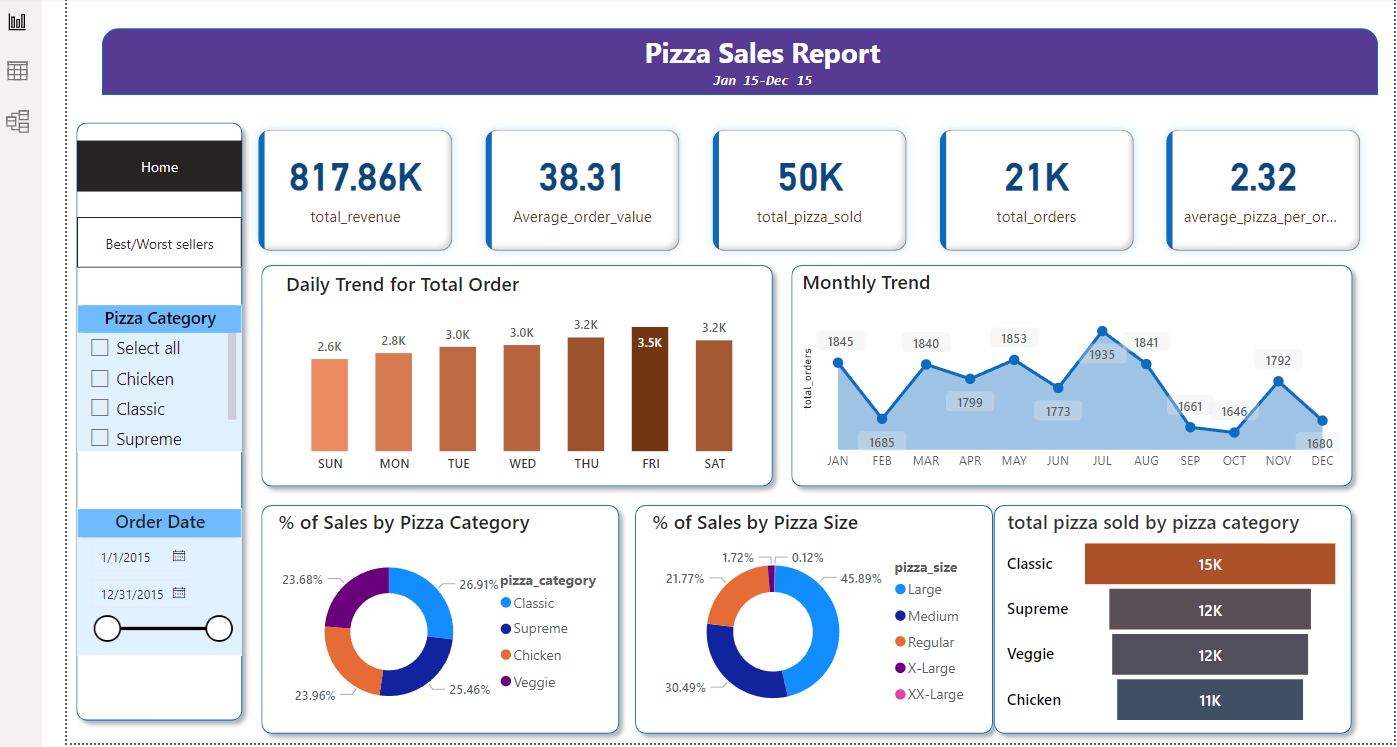

The page's visual inventory and layout, read from the dashboard file:
{"tool":"powerbi","page":{"name":"Home","canvas":[1280,720],"ordinal":0},"visuals":[{"type":"textbox","box":[401.7,671.8,157.7,48],"z":0},{"type":"cardVisual","fields":{"Data":["pizza_sales.total_revenue","pizza_sales.Average_order_value","pizza_sales.total_pizza_sold","pizza_sales.total_orders","pizza_sales.average_pizza_per_order"]},"box":[168.6,112.4,1096.8,149.4],"z":1000},{"type":"shape","box":[34.3,30.2,1231.2,64.4],"z":2000},{"type":"textbox","box":[477.1,30.2,386.6,64.4],"z":3000},{"type":"textbox","box":[49,381.5,1200,150],"z":4000},{"type":"shape","box":[178.2,249.5,511.4,231.7],"z":5000},{"type":"columnChart","title":"Daily Trend for Total Order","fields":{"Category":["pizza_sales.order_day"],"Y":["pizza_sales.total_orders"]},"box":[205.7,264.6,467.5,204.3],"z":6000},{"type":"shape","box":[689.6,249.5,559.4,231.7],"z":7000},{"type":"areaChart","title":"Monthly Trend","fields":{"Category":["pizza_sales.Order Month"],"Y":["pizza_sales.total_orders"]},"box":[704.7,261.9,529.2,204.3],"z":8000},{"type":"shape","box":[178.2,481.2,363.3,238.6],"z":9000},{"type":"shape","box":[538.8,481.2,363.3,238.6],"z":10000},{"type":"shape","box":[885.7,481.2,363.3,238.6],"z":11000},{"type":"donutChart","title":"% of Sales by Pizza Category","fields":{"Category":["pizza_sales.pizza_category"],"Y":["pizza_sales.total_revenue"]},"box":[198.8,493.6,323.6,213.9],"z":12000},{"type":"donutChart","title":"% of Sales by Pizza Size","fields":{"Y":["pizza_sales.total_revenue"],"Category":["pizza_sales.pizza_size"]},"box":[559.4,493.6,323.6,213.9],"z":13000},{"type":"funnel","title":"total pizza sold by pizza category","fields":{"Category":["pizza_sales.pizza_category"],"Y":["pizza_sales.total_pizza_sold"]},"box":[902.1,493.6,331.8,213.9],"z":14000},{"type":"shape","box":[0,112.4,178.2,595],"z":15000},{"type":"slicer","title":"Pizza Category","fields":{"Values":["pizza_sales.pizza_category"]},"box":[9.6,296.1,159,142.6],"z":16000},{"type":"slicer","title":"Order Date","fields":{"Values":["pizza_sales.order_date"]},"box":[9.6,493.6,159,142.6],"z":17000},{"type":"pageNavigator","box":[9.6,138.5,159,49.4],"z":18000},{"type":"pageNavigator","box":[9.6,212.5,159,49.4],"z":19000}]}

Visuals, with their boxes on the page's 1280x720 design canvas (x1, y1, x2, y2). These are canvas units, not pixel positions in the 1397x747 screenshot, which may show the page scaled, cropped or inside an application window:
textbox: 402,672,559,720
cardVisual - pizza_sales.total_revenue x pizza_sales.Average_order_value: 169,112,1265,262
shape: 34,30,1266,95
textbox: 477,30,864,95
textbox: 49,382,1249,532
shape: 178,250,690,481
"Daily Trend for Total Order" columnChart: 206,265,673,469
shape: 690,250,1249,481
"Monthly Trend" areaChart: 705,262,1234,466
shape: 178,481,542,720
shape: 539,481,902,720
shape: 886,481,1249,720
"% of Sales by Pizza Category" donutChart: 199,494,522,708
"% of Sales by Pizza Size" donutChart: 559,494,883,708
"total pizza sold by pizza category" funnel: 902,494,1234,708
shape: 0,112,178,707
"Pizza Category" slicer: 10,296,169,439
"Order Date" slicer: 10,494,169,636
pageNavigator: 10,138,169,188
pageNavigator: 10,212,169,262
